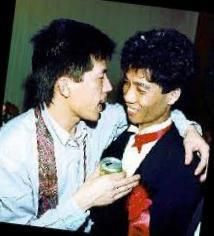Drunk: (79, 54, 114, 124), (121, 68, 159, 126)
